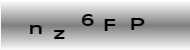6: (80, 13, 94, 27)
F: (103, 18, 117, 32)
P: (130, 17, 145, 31)
n: (28, 23, 43, 35)
z: (52, 28, 65, 40)
